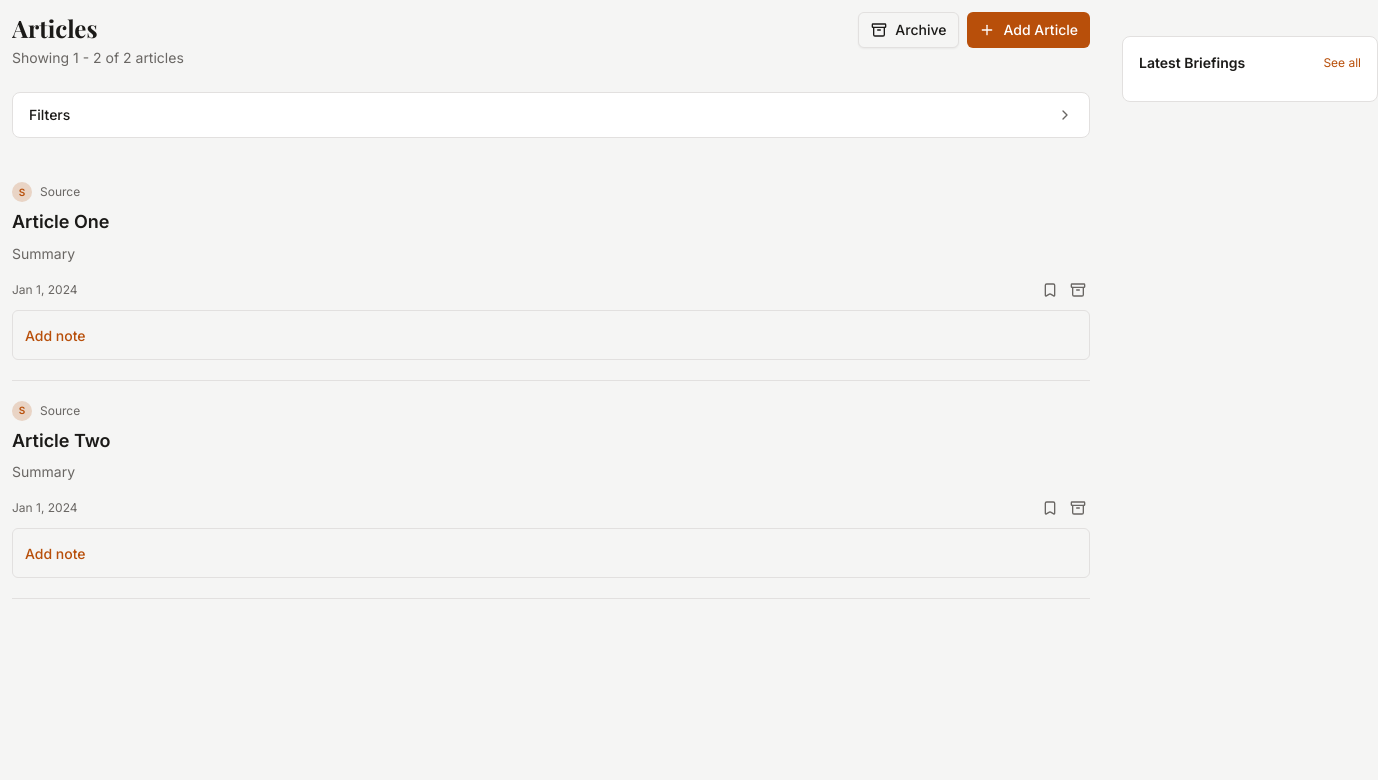
it: ArticlesPage archive view › removes the card immediately when an article is archived
Check: the link "Article One" is shown, box 12,211 -> 110,232
Click the 1st button named "archive": (1078,290) 1066,278 -> 1090,302
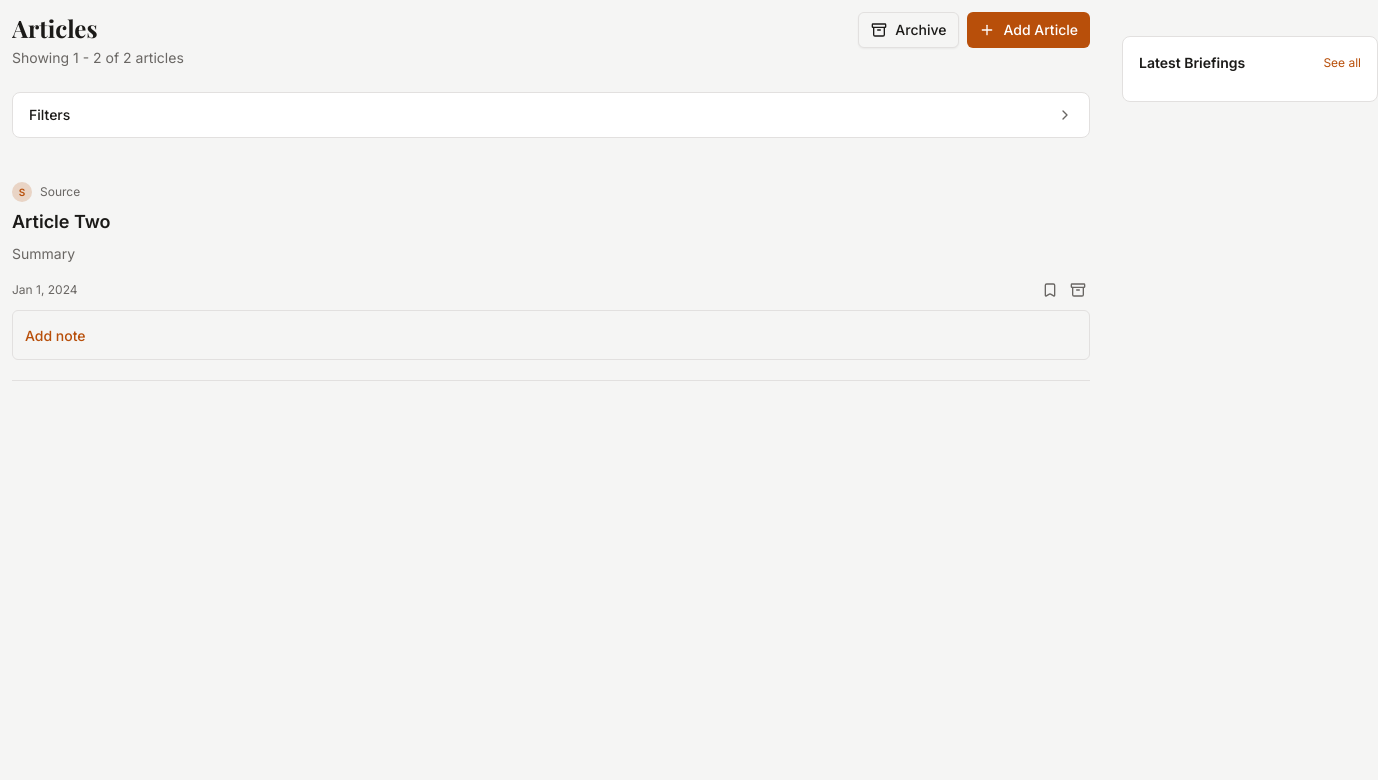
Check: the link "Article Two" is shown, box 12,211 -> 111,232
Check: the link "Article One" is gone
